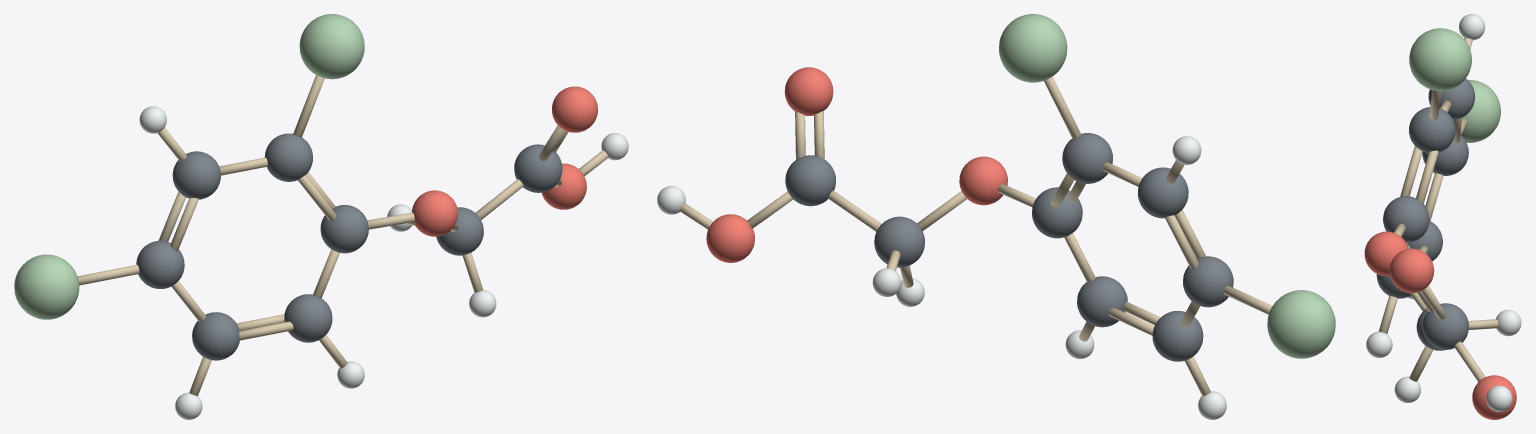
The model's file is 2-4-d-pubchem.glb.
3 views of the same model, side by side, from view 1: azimuth 30°, elevation 25°; view 2: azimuth 150°, elevation 25°; view 3: azimuth 270°, elevation 25° (orthographic). The views are drawn at different scales.
Parts seen in each view (by area): view 1: Atom 02 · Cl, Atom 01 · Cl, Atom 07 · C, Atom 10 · C, Atom 09 · C, Atom 12 · C, Atom 08 · C, Atom 06 · C, Atom 13 · C, Atom 05 · O, Atom 03 · O, Atom 11 · C (+8 smaller); view 2: Atom 02 · Cl, Atom 01 · Cl, Atom 13 · C, Atom 07 · C, Atom 10 · C, Atom 12 · C, Atom 09 · C, Atom 11 · C, Atom 08 · C, Atom 04 · O, Atom 05 · O, Atom 03 · O (+7 smaller); view 3: Atom 01 · Cl, Atom 02 · Cl, Atom 07 · C, Atom 05 · O, Atom 13 · C, Atom 06 · C, Atom 03 · O, Atom 04 · O, Atom 12 · C, Atom 09 · C, Atom 10 · C, Atom 19 · H (+16 smaller).
Part boxes in pixels (left/top/right/bottom): Atom 02 · Cl: left=14, top=254, right=79, bottom=319; Atom 01 · Cl: left=299, top=14, right=364, bottom=79; Atom 07 · C: left=264, top=133, right=312, bottom=181; Atom 10 · C: left=192, top=312, right=239, bottom=360; Atom 09 · C: left=172, top=151, right=220, bottom=199; Atom 12 · C: left=136, top=240, right=184, bottom=288; Atom 08 · C: left=284, top=294, right=332, bottom=342; Atom 06 · C: left=320, top=205, right=368, bottom=253; Atom 13 · C: left=514, top=144, right=562, bottom=192; Atom 05 · O: left=552, top=86, right=597, bottom=132; Atom 03 · O: left=412, top=190, right=457, bottom=236; Atom 11 · C: left=436, top=207, right=483, bottom=255; Atom 02 · Cl: left=1267, top=290, right=1335, bottom=358; Atom 01 · Cl: left=999, top=14, right=1067, bottom=82; Atom 13 · C: left=785, top=155, right=835, bottom=206; Atom 07 · C: left=1062, top=133, right=1112, bottom=183; Atom 10 · C: left=1152, top=311, right=1203, bottom=361; Atom 12 · C: left=1183, top=256, right=1233, bottom=307; Atom 09 · C: left=1137, top=167, right=1188, bottom=218; Atom 11 · C: left=874, top=216, right=924, bottom=267; Atom 08 · C: left=1077, top=276, right=1127, bottom=327; Atom 04 · O: left=706, top=214, right=754, bottom=262; Atom 05 · O: left=784, top=67, right=833, bottom=115; Atom 03 · O: left=959, top=156, right=1007, bottom=205; Atom 01 · Cl: left=1409, top=28, right=1471, bottom=91; Atom 02 · Cl: left=1461, top=80, right=1500, bottom=142; Atom 07 · C: left=1409, top=107, right=1455, bottom=153; Atom 05 · O: left=1389, top=248, right=1434, bottom=292; Atom 13 · C: left=1422, top=303, right=1468, bottom=349; Atom 06 · C: left=1383, top=196, right=1429, bottom=242; Atom 03 · O: left=1364, top=231, right=1408, bottom=276; Atom 04 · O: left=1472, top=375, right=1516, bottom=419; Atom 12 · C: left=1422, top=135, right=1468, bottom=175; Atom 09 · C: left=1428, top=78, right=1475, bottom=119; Atom 10 · C: left=1408, top=221, right=1442, bottom=261; Atom 19 · H: left=1486, top=385, right=1512, bottom=411.
Bounding box in the file's own units: 6.84 × 3.7 × 1.55.
